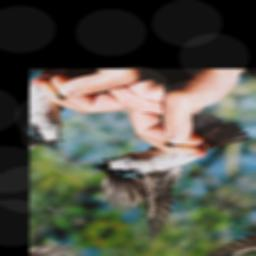Swallow: (47, 94, 256, 252)
